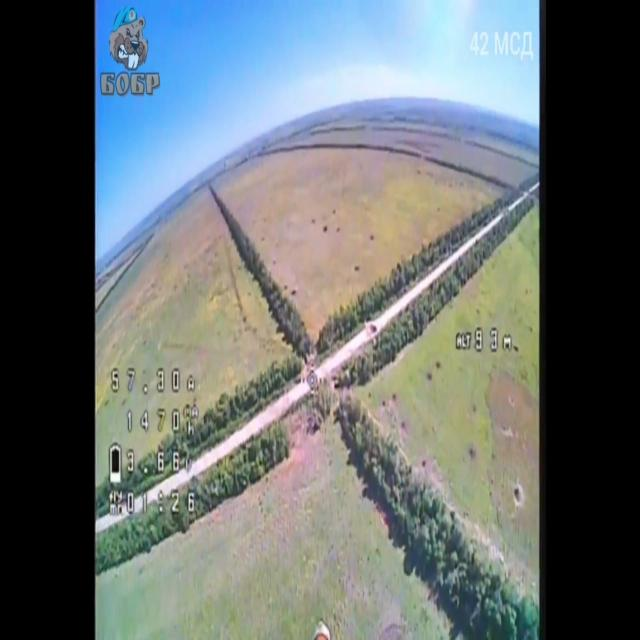cars: (304, 352, 311, 363)
